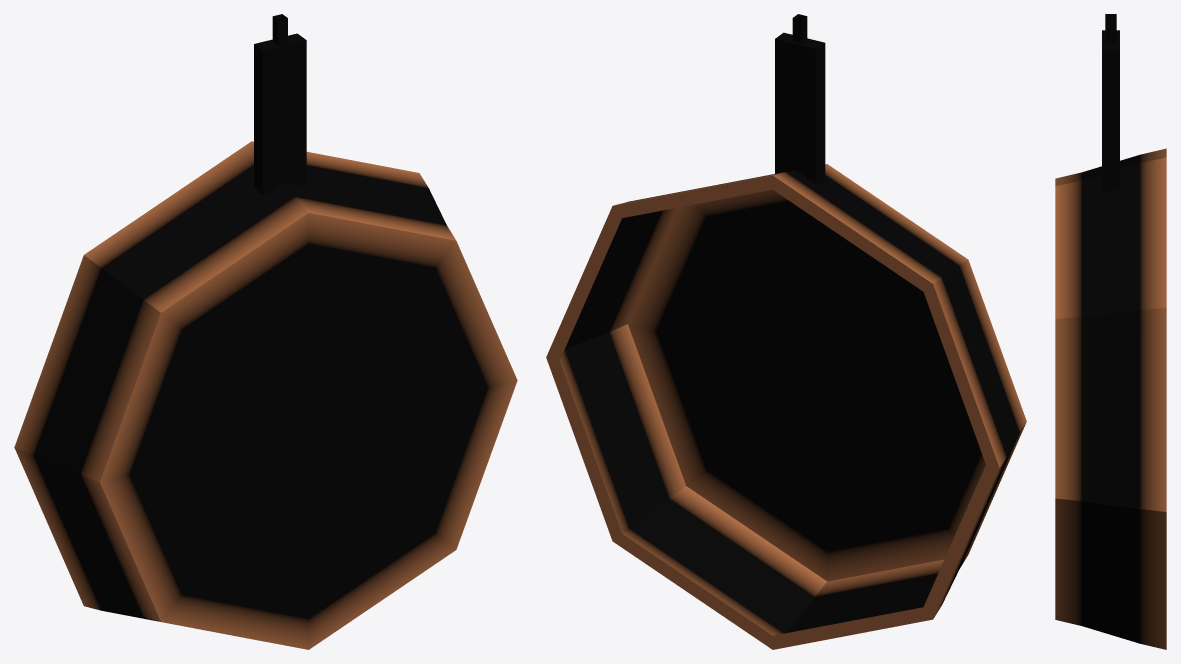
The model's file is copper_pan_120.glb.
The picture shows the model from 3 angles, left to right: view 1: azimuth 30°, elevation 25°; view 2: azimuth 150°, elevation 25°; view 3: azimuth 270°, elevation 25°; orthographic projection. The views are drawn at different scales.
Parts seen in each view (by area): view 1: copper, iron; view 2: copper, iron; view 3: copper, iron.
Part boxes in pixels (<box>): copper: <box>14,141,517,649</box>; iron: <box>254,14,306,195</box>; copper: <box>546,164,1026,649</box>; iron: <box>775,14,825,184</box>; copper: <box>1055,148,1166,649</box>; iron: <box>1102,14,1119,191</box>.
Bounding box in the file's own units: 0.24 × 0.31 × 0.05.
